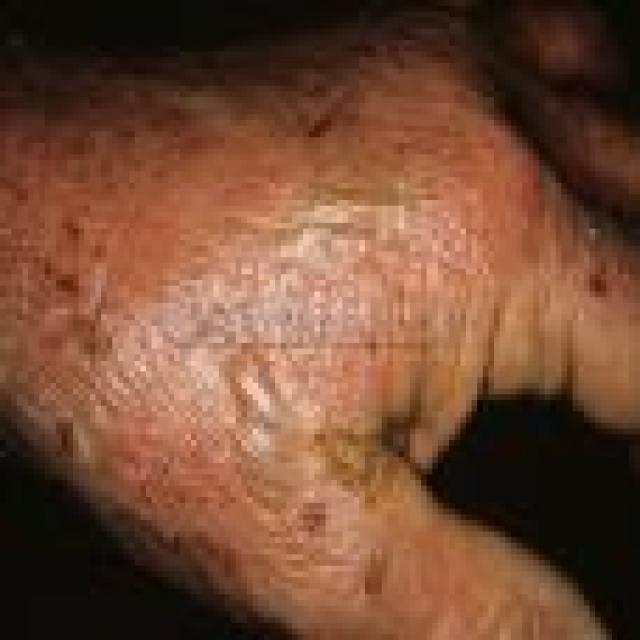Melasma: (188, 340, 431, 558)
